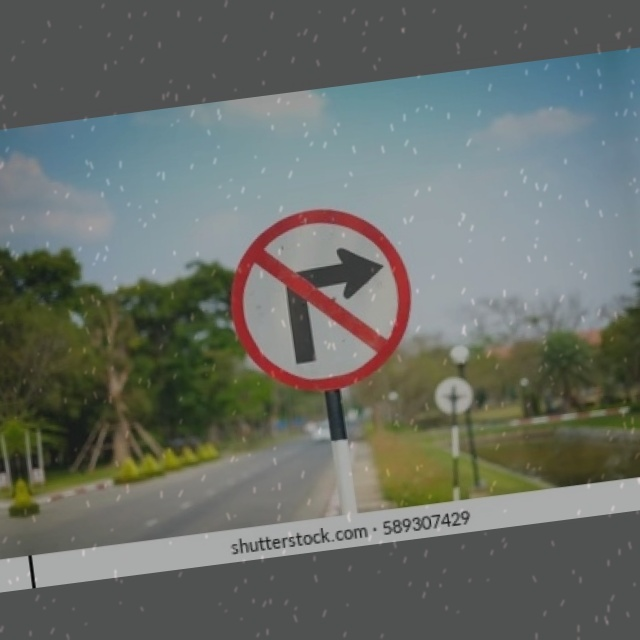Right_Turn_Prohibited: (220, 199, 424, 403)
